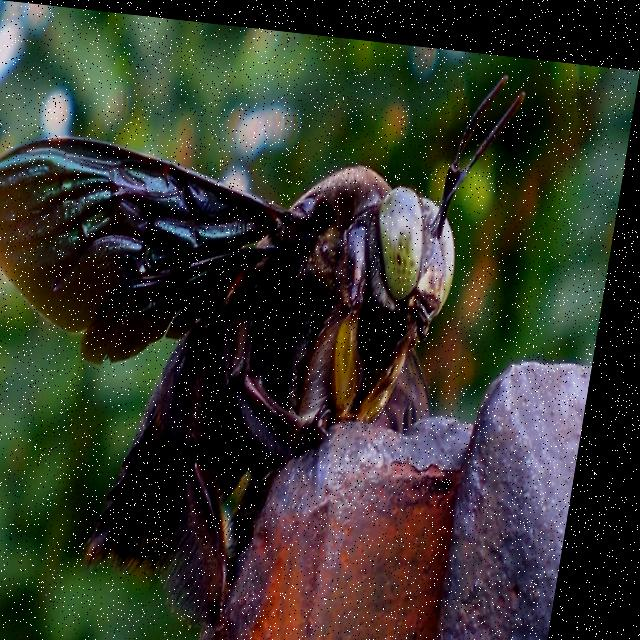Xylocopa: (0, 72, 545, 640)
